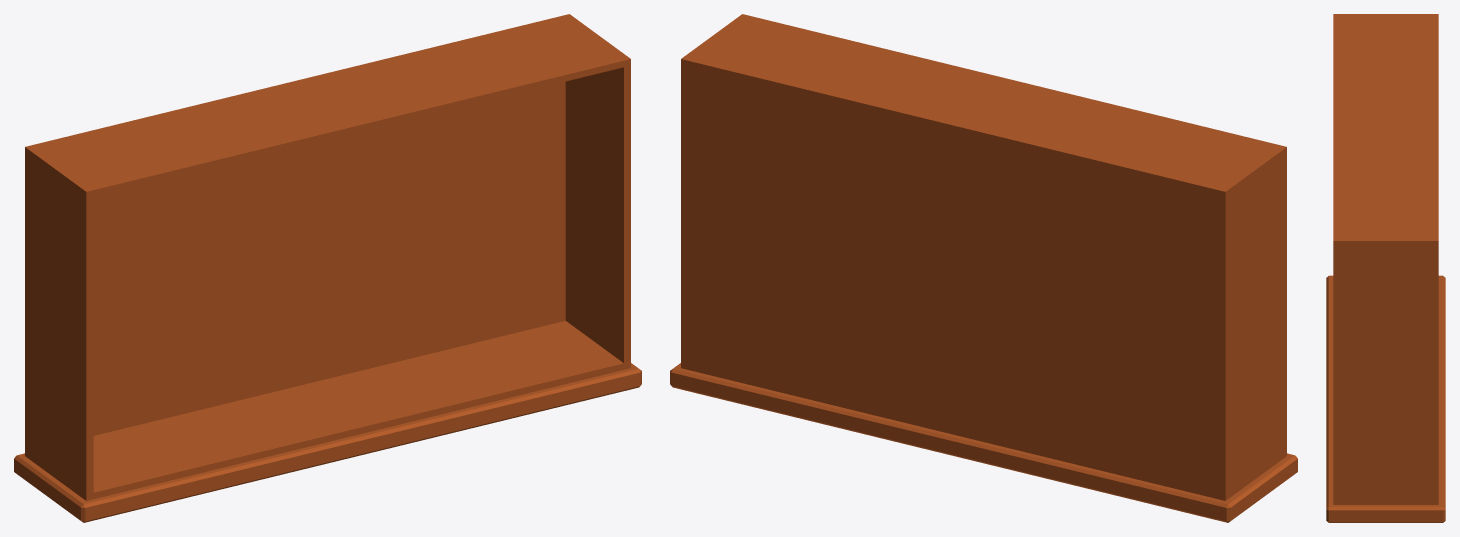
Rendered from DrawermeshDresserDrawer_319_8_2.obj.
3 views of the same model, side by side, from view 1: azimuth 30°, elevation 25°; view 2: azimuth 150°, elevation 25°; view 3: azimuth 270°, elevation 25° (orthographic). The views are drawn at different scales.
Parts seen in each view (by area): view 1: DresserDrawer_319_8; view 2: DresserDrawer_319_8; view 3: DresserDrawer_319_8.
Part boxes in pixels (x1=…): DresserDrawer_319_8: x1=14, y1=14, x2=641, y2=522; DresserDrawer_319_8: x1=670, y1=14, x2=1297, y2=522; DresserDrawer_319_8: x1=1326, y1=14, x2=1445, y2=522.
Bounding box in the file's own units: 0.7394 × 0.4276 × 0.1596.
